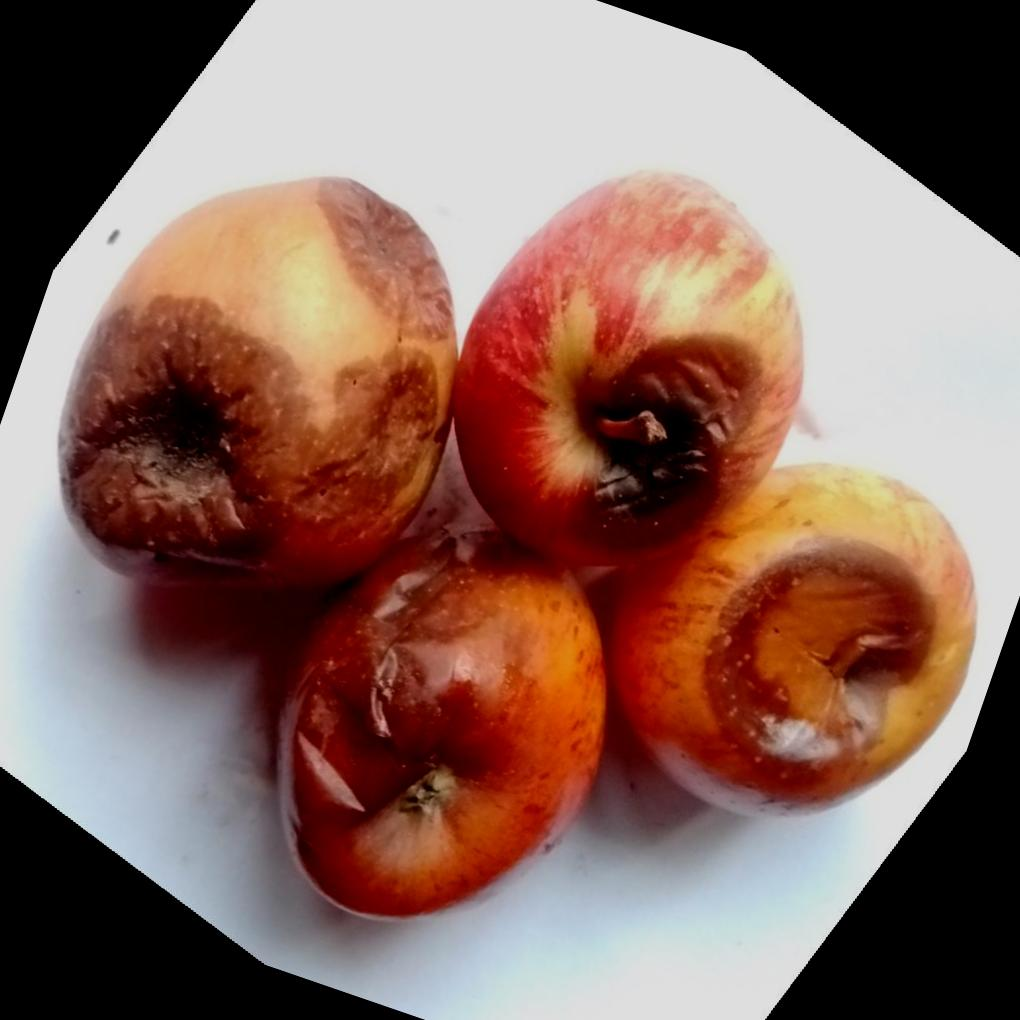FreshOrange: (54, 170, 977, 922)
